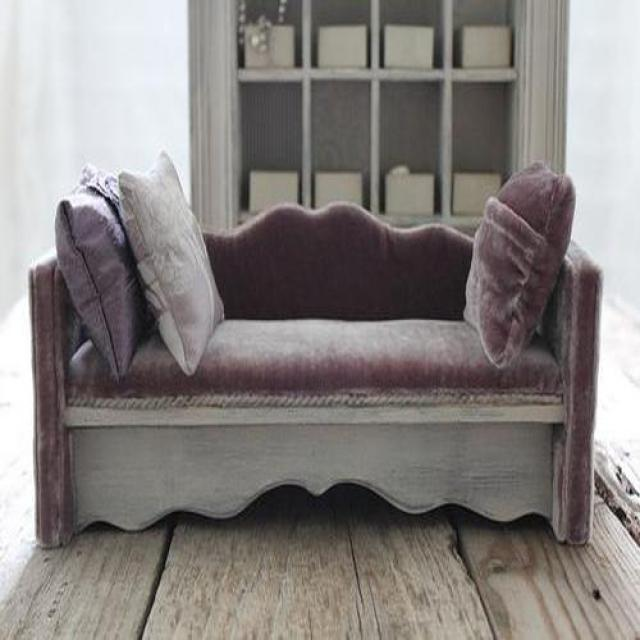sofa: (31, 161, 604, 548)
